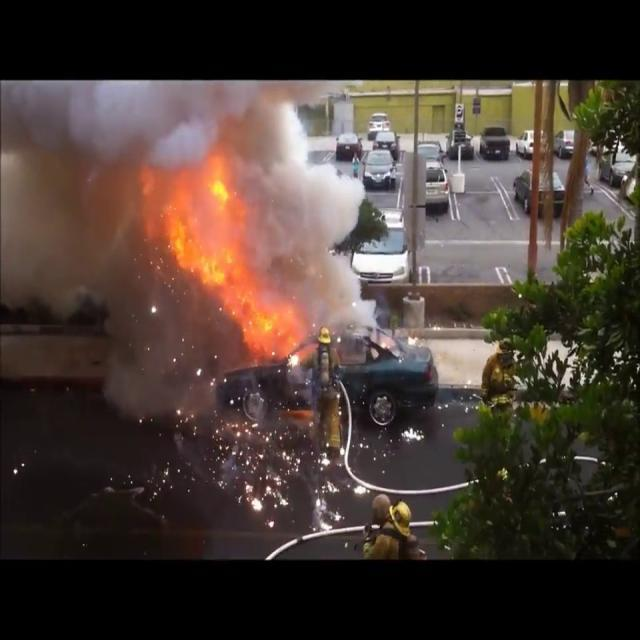Fire: (159, 168, 297, 356)
Smoke: (0, 78, 383, 332)
